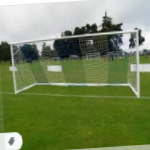goals: (8, 28, 142, 99)
